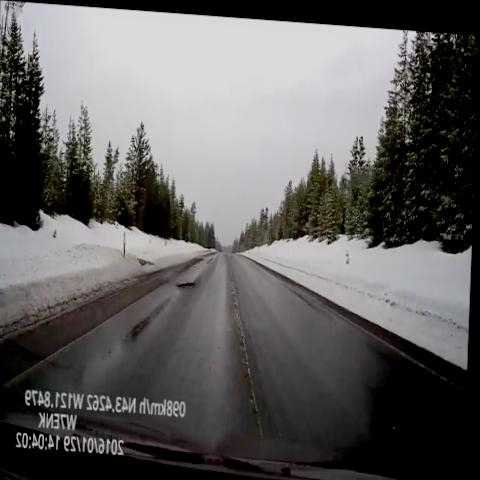pothole: (166, 266, 205, 303)
